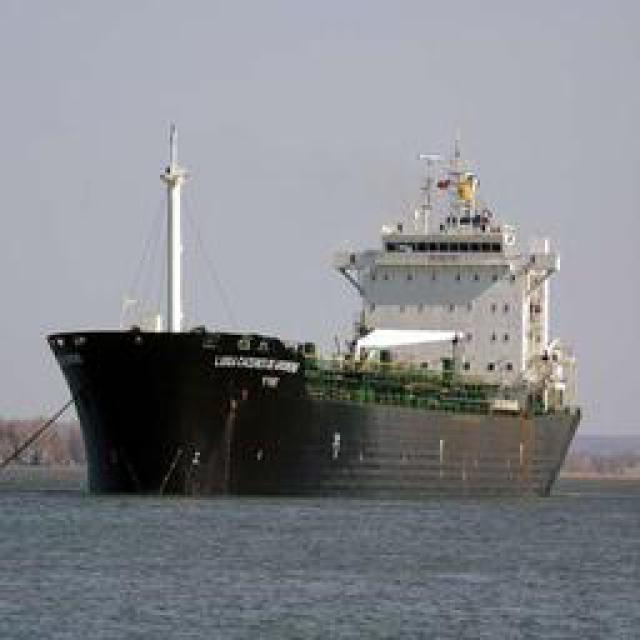Ship: (38, 129, 603, 515)
